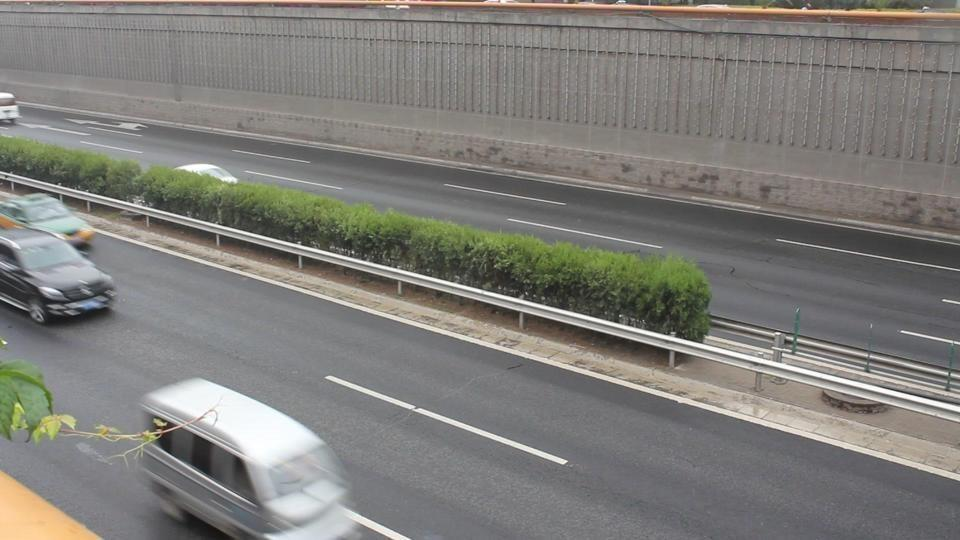car: (139, 376, 352, 535), (1, 221, 118, 324), (1, 193, 98, 252), (0, 91, 20, 125)
